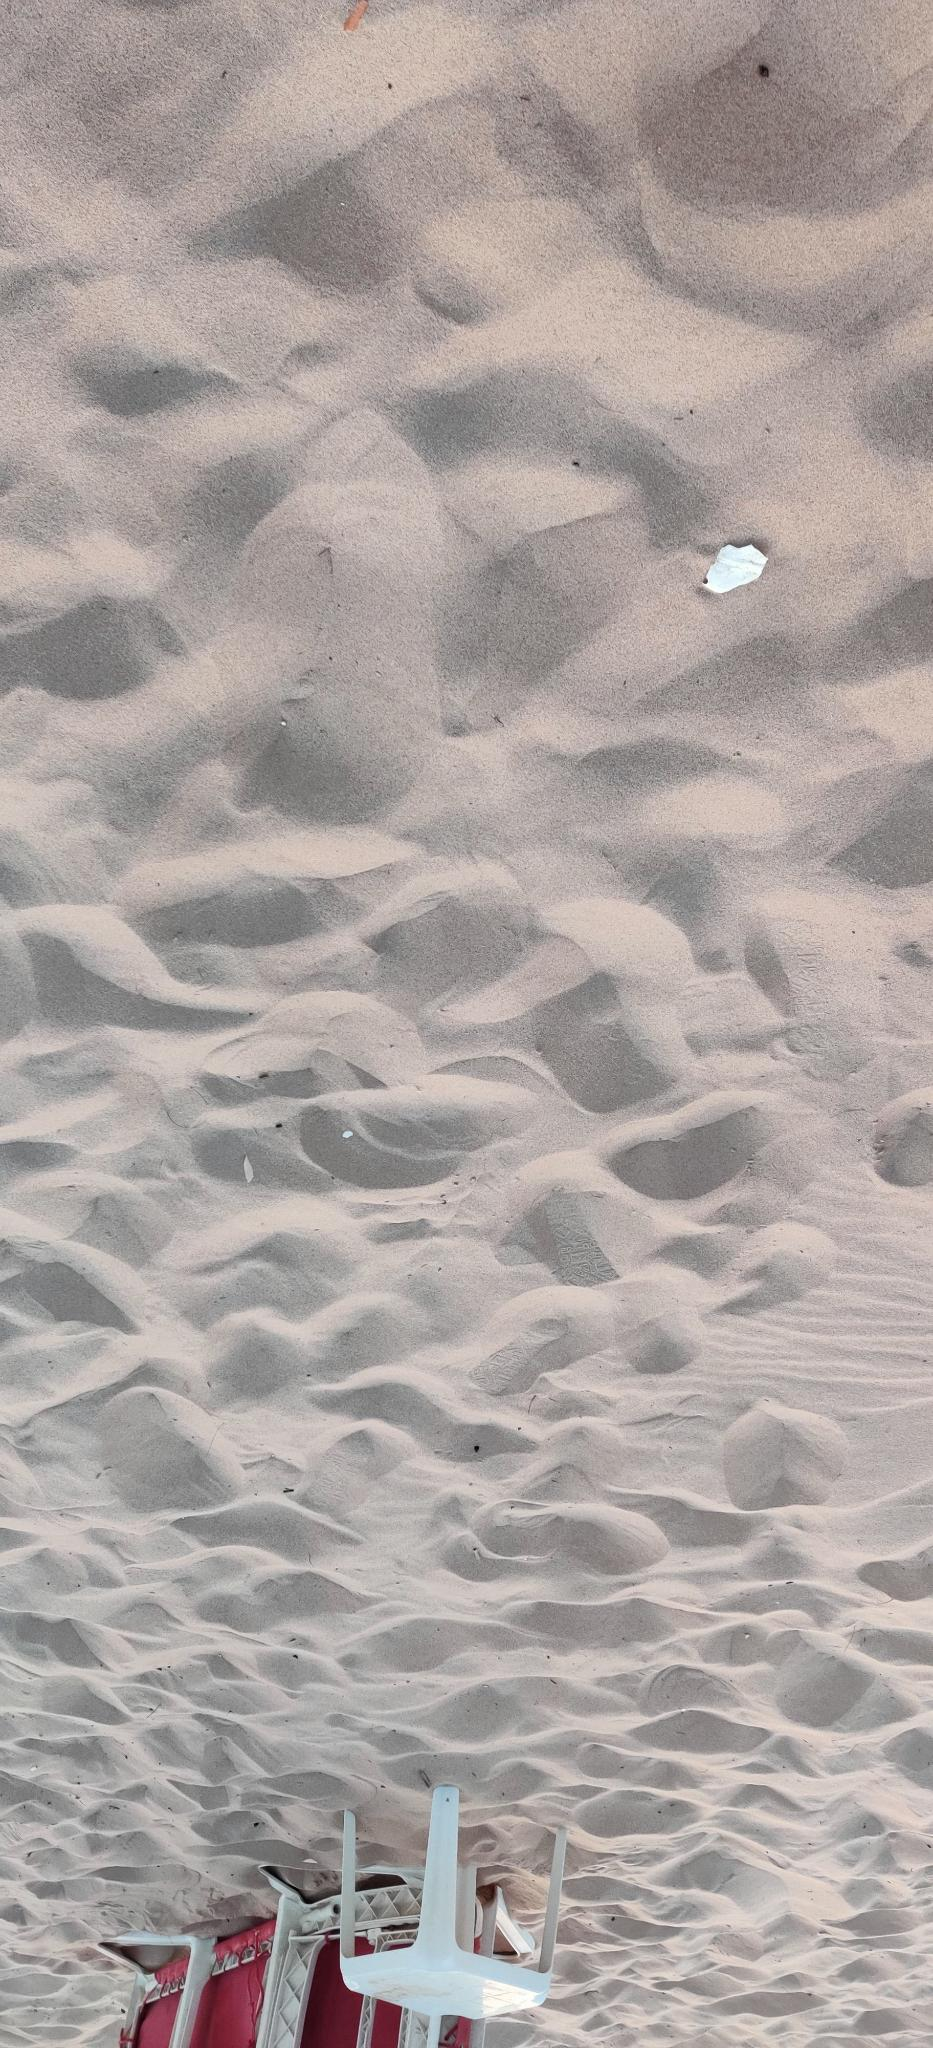Plastic: (696, 538, 775, 600)
